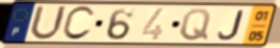4: (139, 6, 165, 42)
6: (106, 7, 136, 41)
C: (60, 5, 97, 43)
J: (216, 9, 245, 41)
Q: (178, 7, 213, 43)
U: (27, 4, 69, 42)
